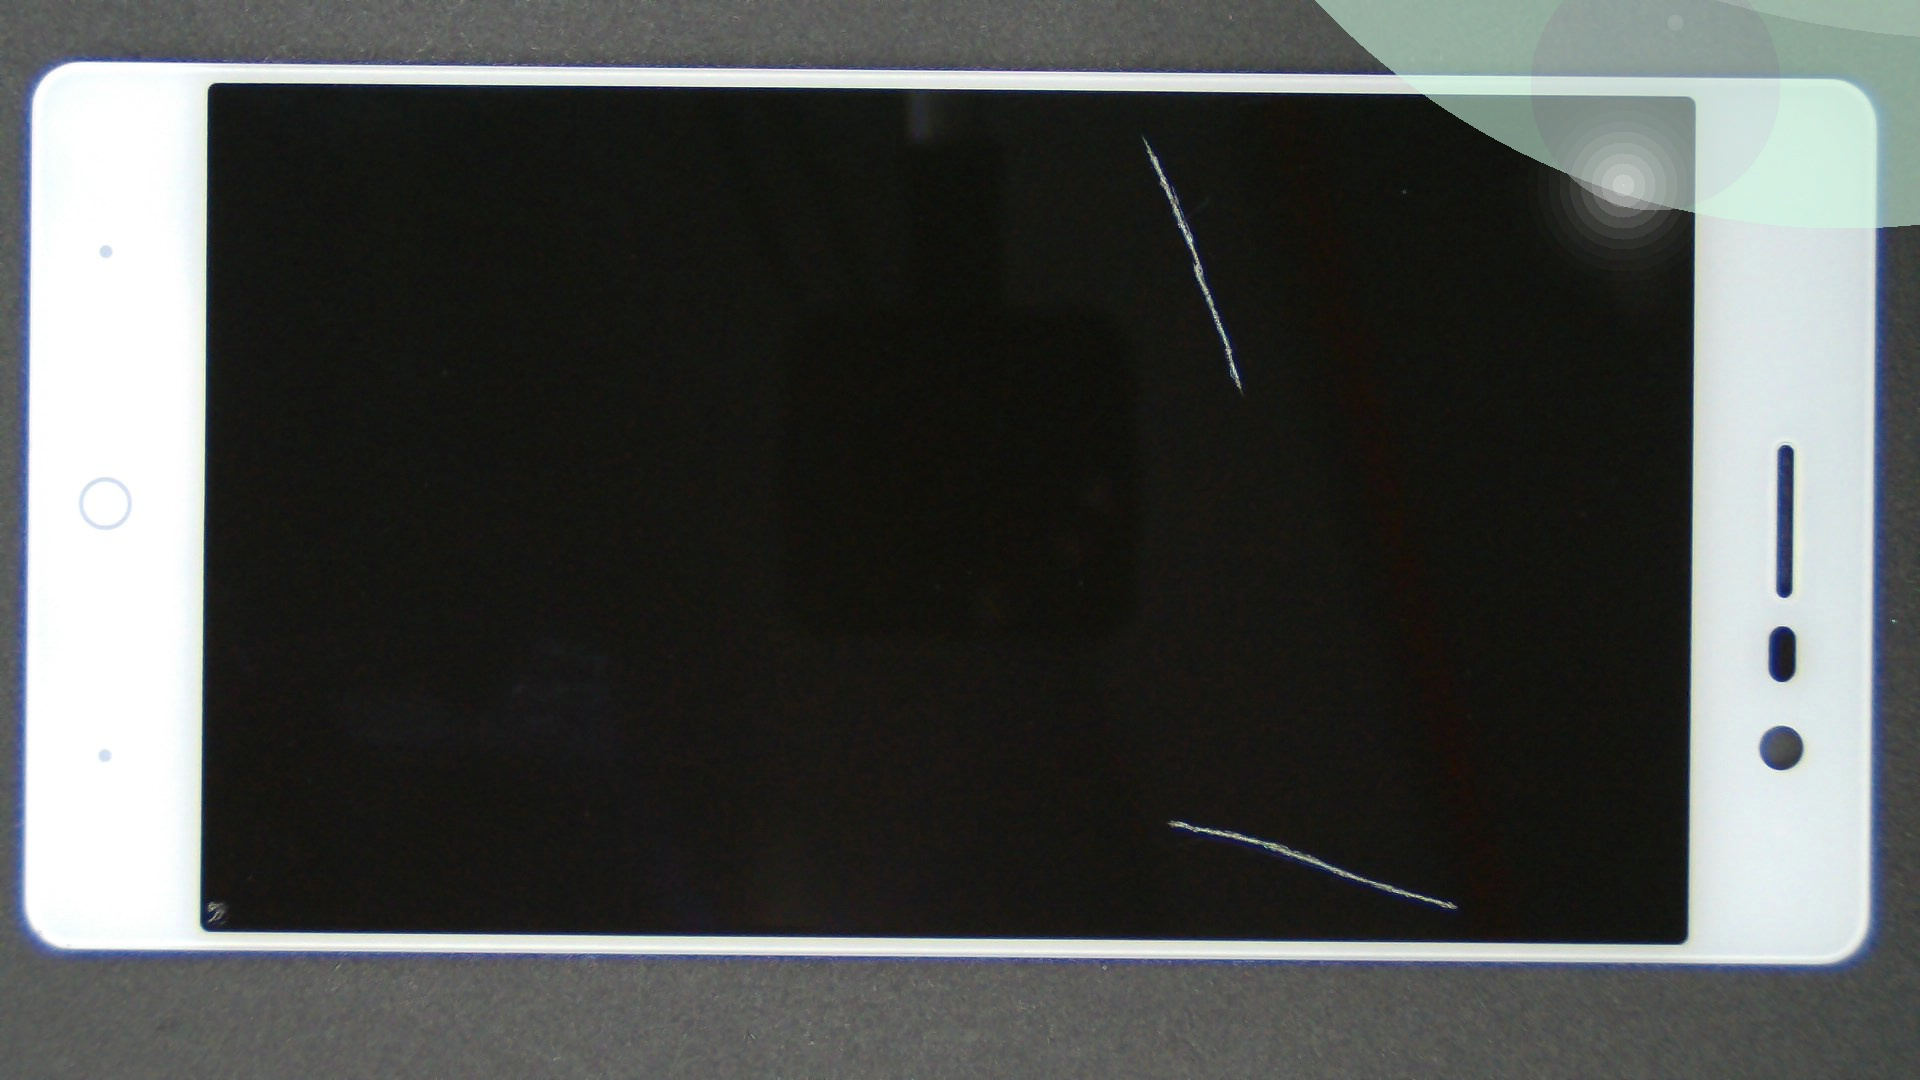oil: (585, 409, 1753, 1080), (571, 69, 1712, 206), (107, 450, 318, 1080)
